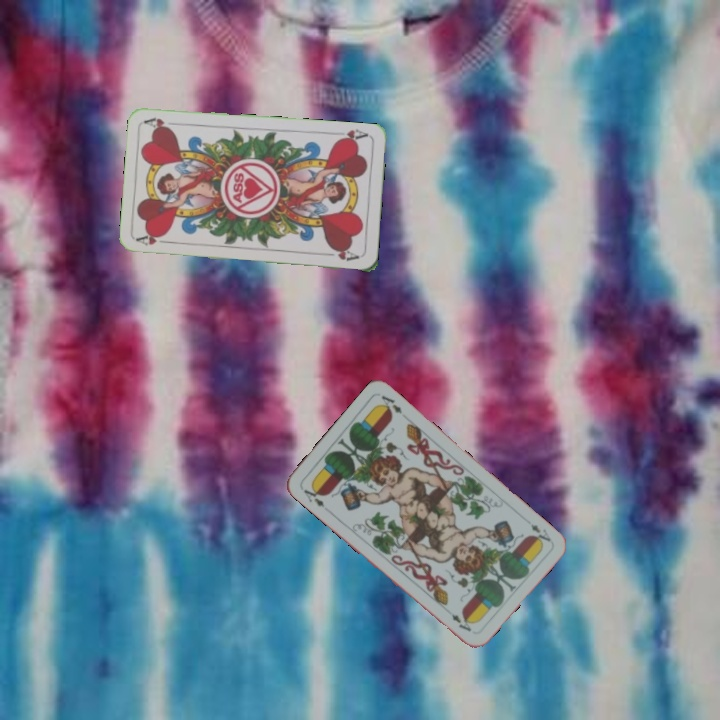EA: (300, 481, 327, 510), (527, 519, 553, 546)
HA: (332, 125, 371, 145), (133, 231, 174, 248)
